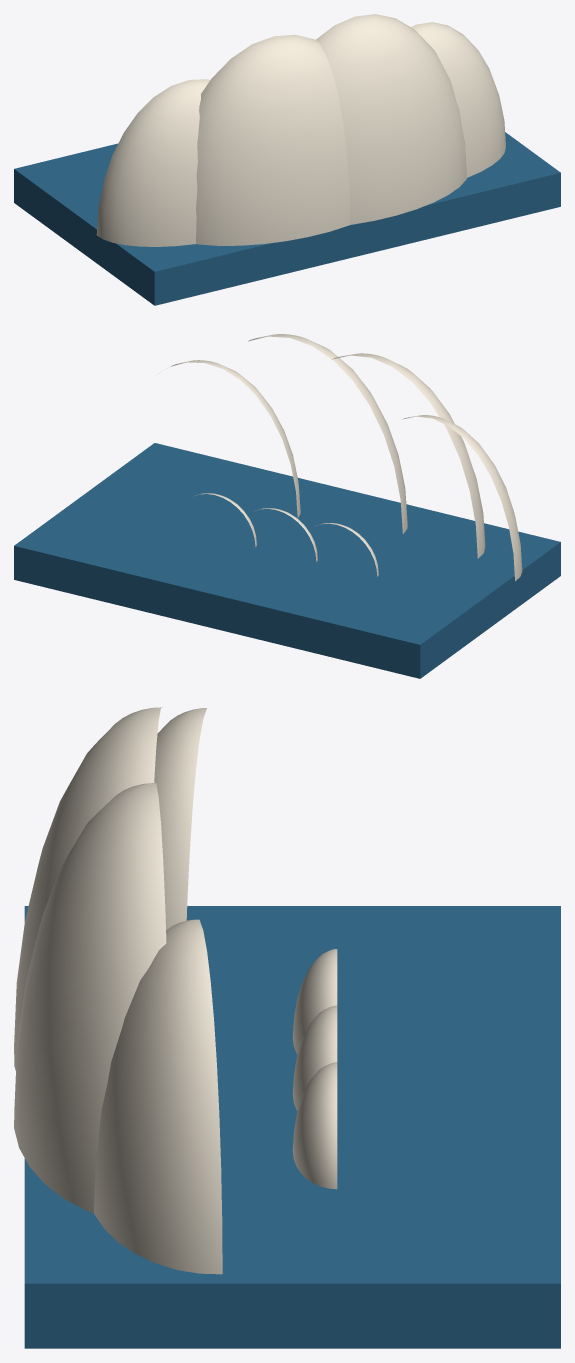
The model's file is sydney-opera.glb.
The picture shows the model from 3 angles, top to bottom: view 1: azimuth 30°, elevation 25°; view 2: azimuth 150°, elevation 25°; view 3: azimuth 270°, elevation 25°; orthographic projection. The views are drawn at different scales.
Size of the model in its own units: 101 by 48.5 by 61.18.
